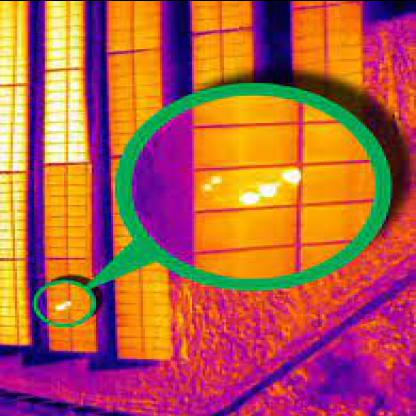Defects: (277, 169, 301, 180), (238, 191, 264, 201), (258, 183, 280, 194)
